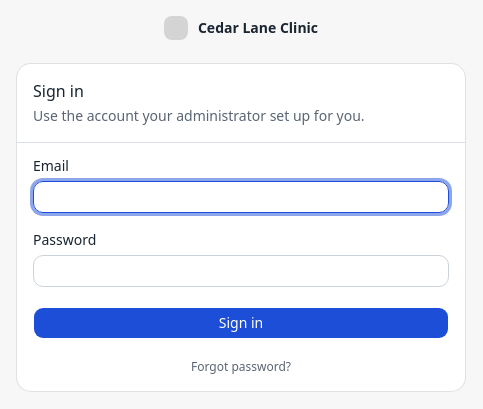
it: the login screen offers a way out of a forgotten password
The image size is (483, 409).
Step 1. Click the link "Forgot password?" → (241, 366), box [191,358,291,374]
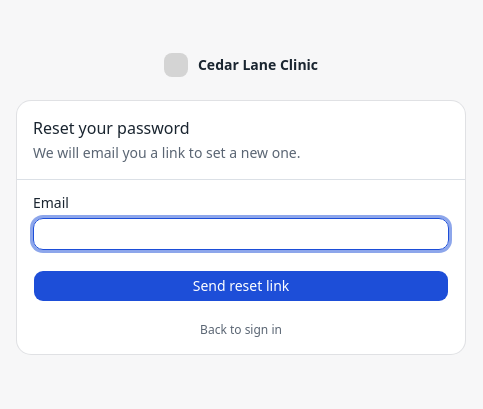
Check: the button "Send reset link" is shown, box [33,270,449,302]
